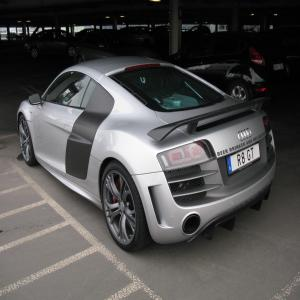Vehicle-registration-plate: (224, 125, 267, 185), (275, 64, 286, 72)
